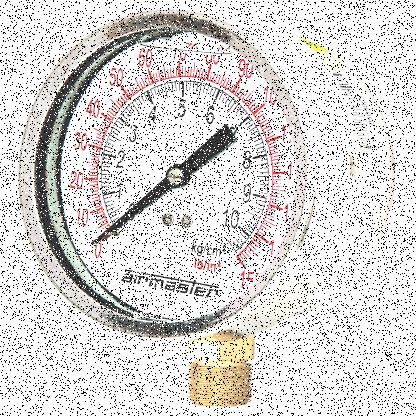needle: (89, 176, 175, 247)
